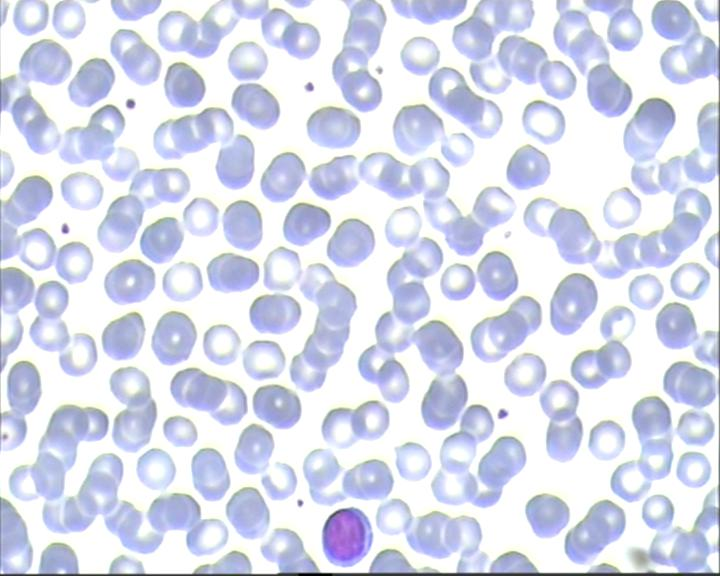lymp: (318, 504, 379, 571)
